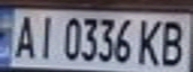0: (60, 14, 81, 62)
3: (78, 15, 100, 63), (97, 15, 118, 64)
6: (112, 16, 139, 65)
A: (9, 11, 39, 61)
B: (157, 17, 190, 68)
I: (33, 11, 57, 61)
K: (133, 16, 166, 66)
